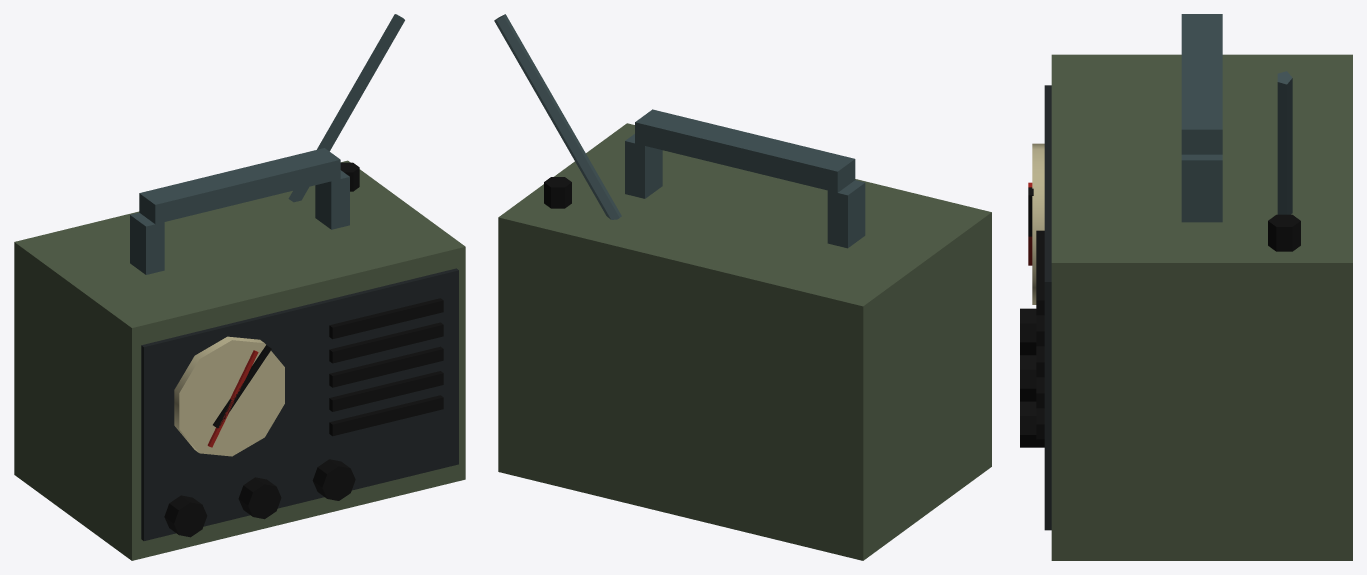
The model's file is scrap_broken_radio.fbx.
The picture shows the model from 3 angles, left to right: view 1: azimuth 30°, elevation 25°; view 2: azimuth 150°, elevation 25°; view 3: azimuth 270°, elevation 25°; orthographic projection. The views are drawn at different scales.
Visible parts, largest first — view 1: scrap_broken_radio; view 2: scrap_broken_radio; view 3: scrap_broken_radio.
Boxes of the visible parts, x1,y1,x2,y2 form: scrap_broken_radio: [14, 14, 465, 560]; scrap_broken_radio: [494, 14, 991, 560]; scrap_broken_radio: [1020, 14, 1352, 560].
Size of the model in its own units: 0.3803 by 0.393 by 0.2357.
1 material, 1 textured.
